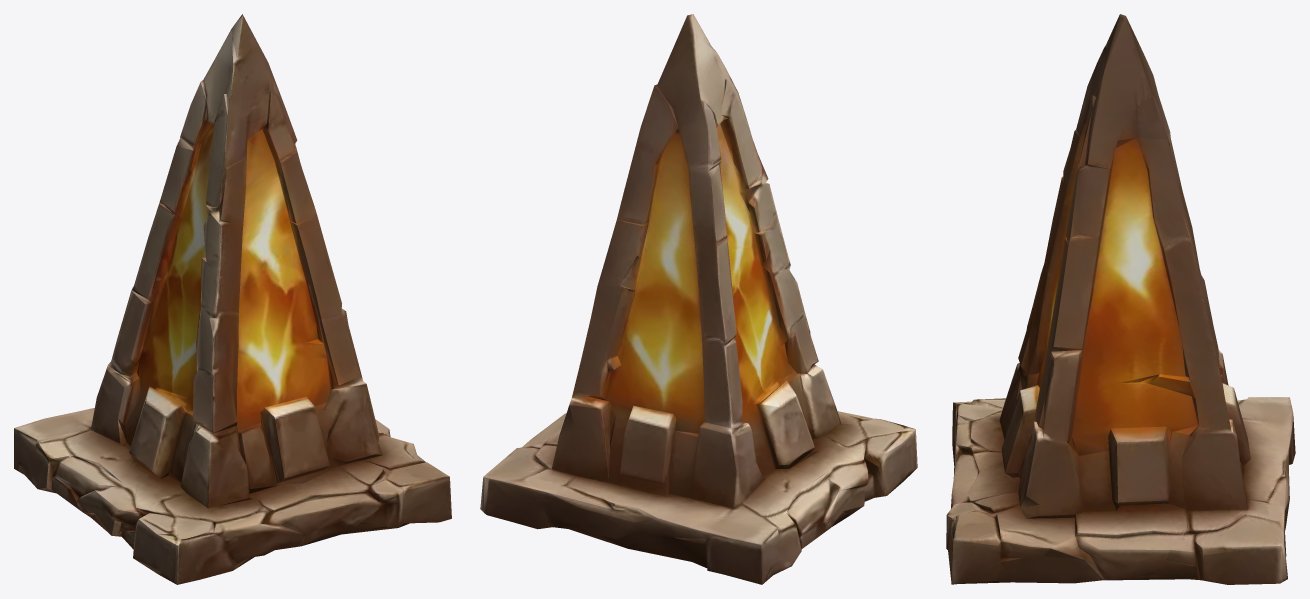
Rendered from m2ScoreBeacon.glb.
3 renders of one model, left to right at view 1: azimuth 30°, elevation 25°; view 2: azimuth 150°, elevation 25°; view 3: azimuth 270°, elevation 25°, orthographic. The views are drawn at different scales.
Visible parts, largest first — view 1: model; view 2: model; view 3: model.
Part boxes in pixels (x1,y1,x2,y2): model: (14, 14, 451, 584); model: (480, 14, 917, 584); model: (946, 14, 1295, 584).
Bounding box in the file's own units: 1.22 × 1.89 × 1.19.
Materials: 1 (1 with a texture image).
